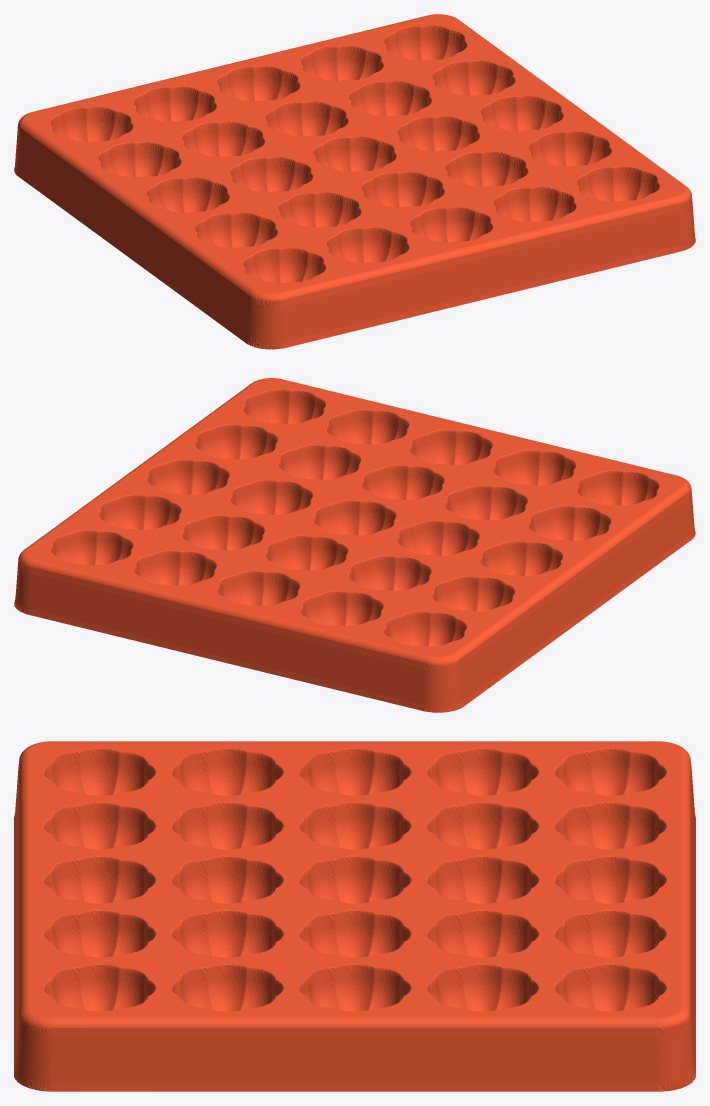
File: mold.glb
3 views of the same model, one above another, from view 1: azimuth 30°, elevation 25°; view 2: azimuth 150°, elevation 25°; view 3: azimuth 270°, elevation 25° (orthographic). The views are drawn at different scales.
Visible parts, largest first — view 1: geometry_0; view 2: geometry_0; view 3: geometry_0.
Boxes of the visible parts, x1=… form: geometry_0: x1=14, y1=14, x2=695, y2=349; geometry_0: x1=14, y1=378, x2=695, y2=712; geometry_0: x1=14, y1=741, x2=695, y2=1091.
Bounding box in the file's own units: 0.1584 × 0.0174 × 0.1584.
